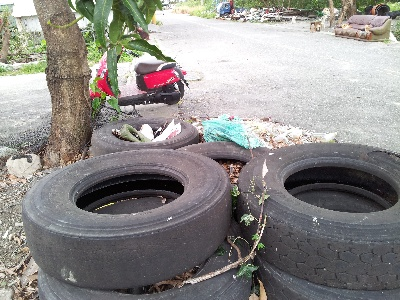tire: (21, 147, 234, 291), (237, 141, 400, 292), (89, 115, 201, 157)
